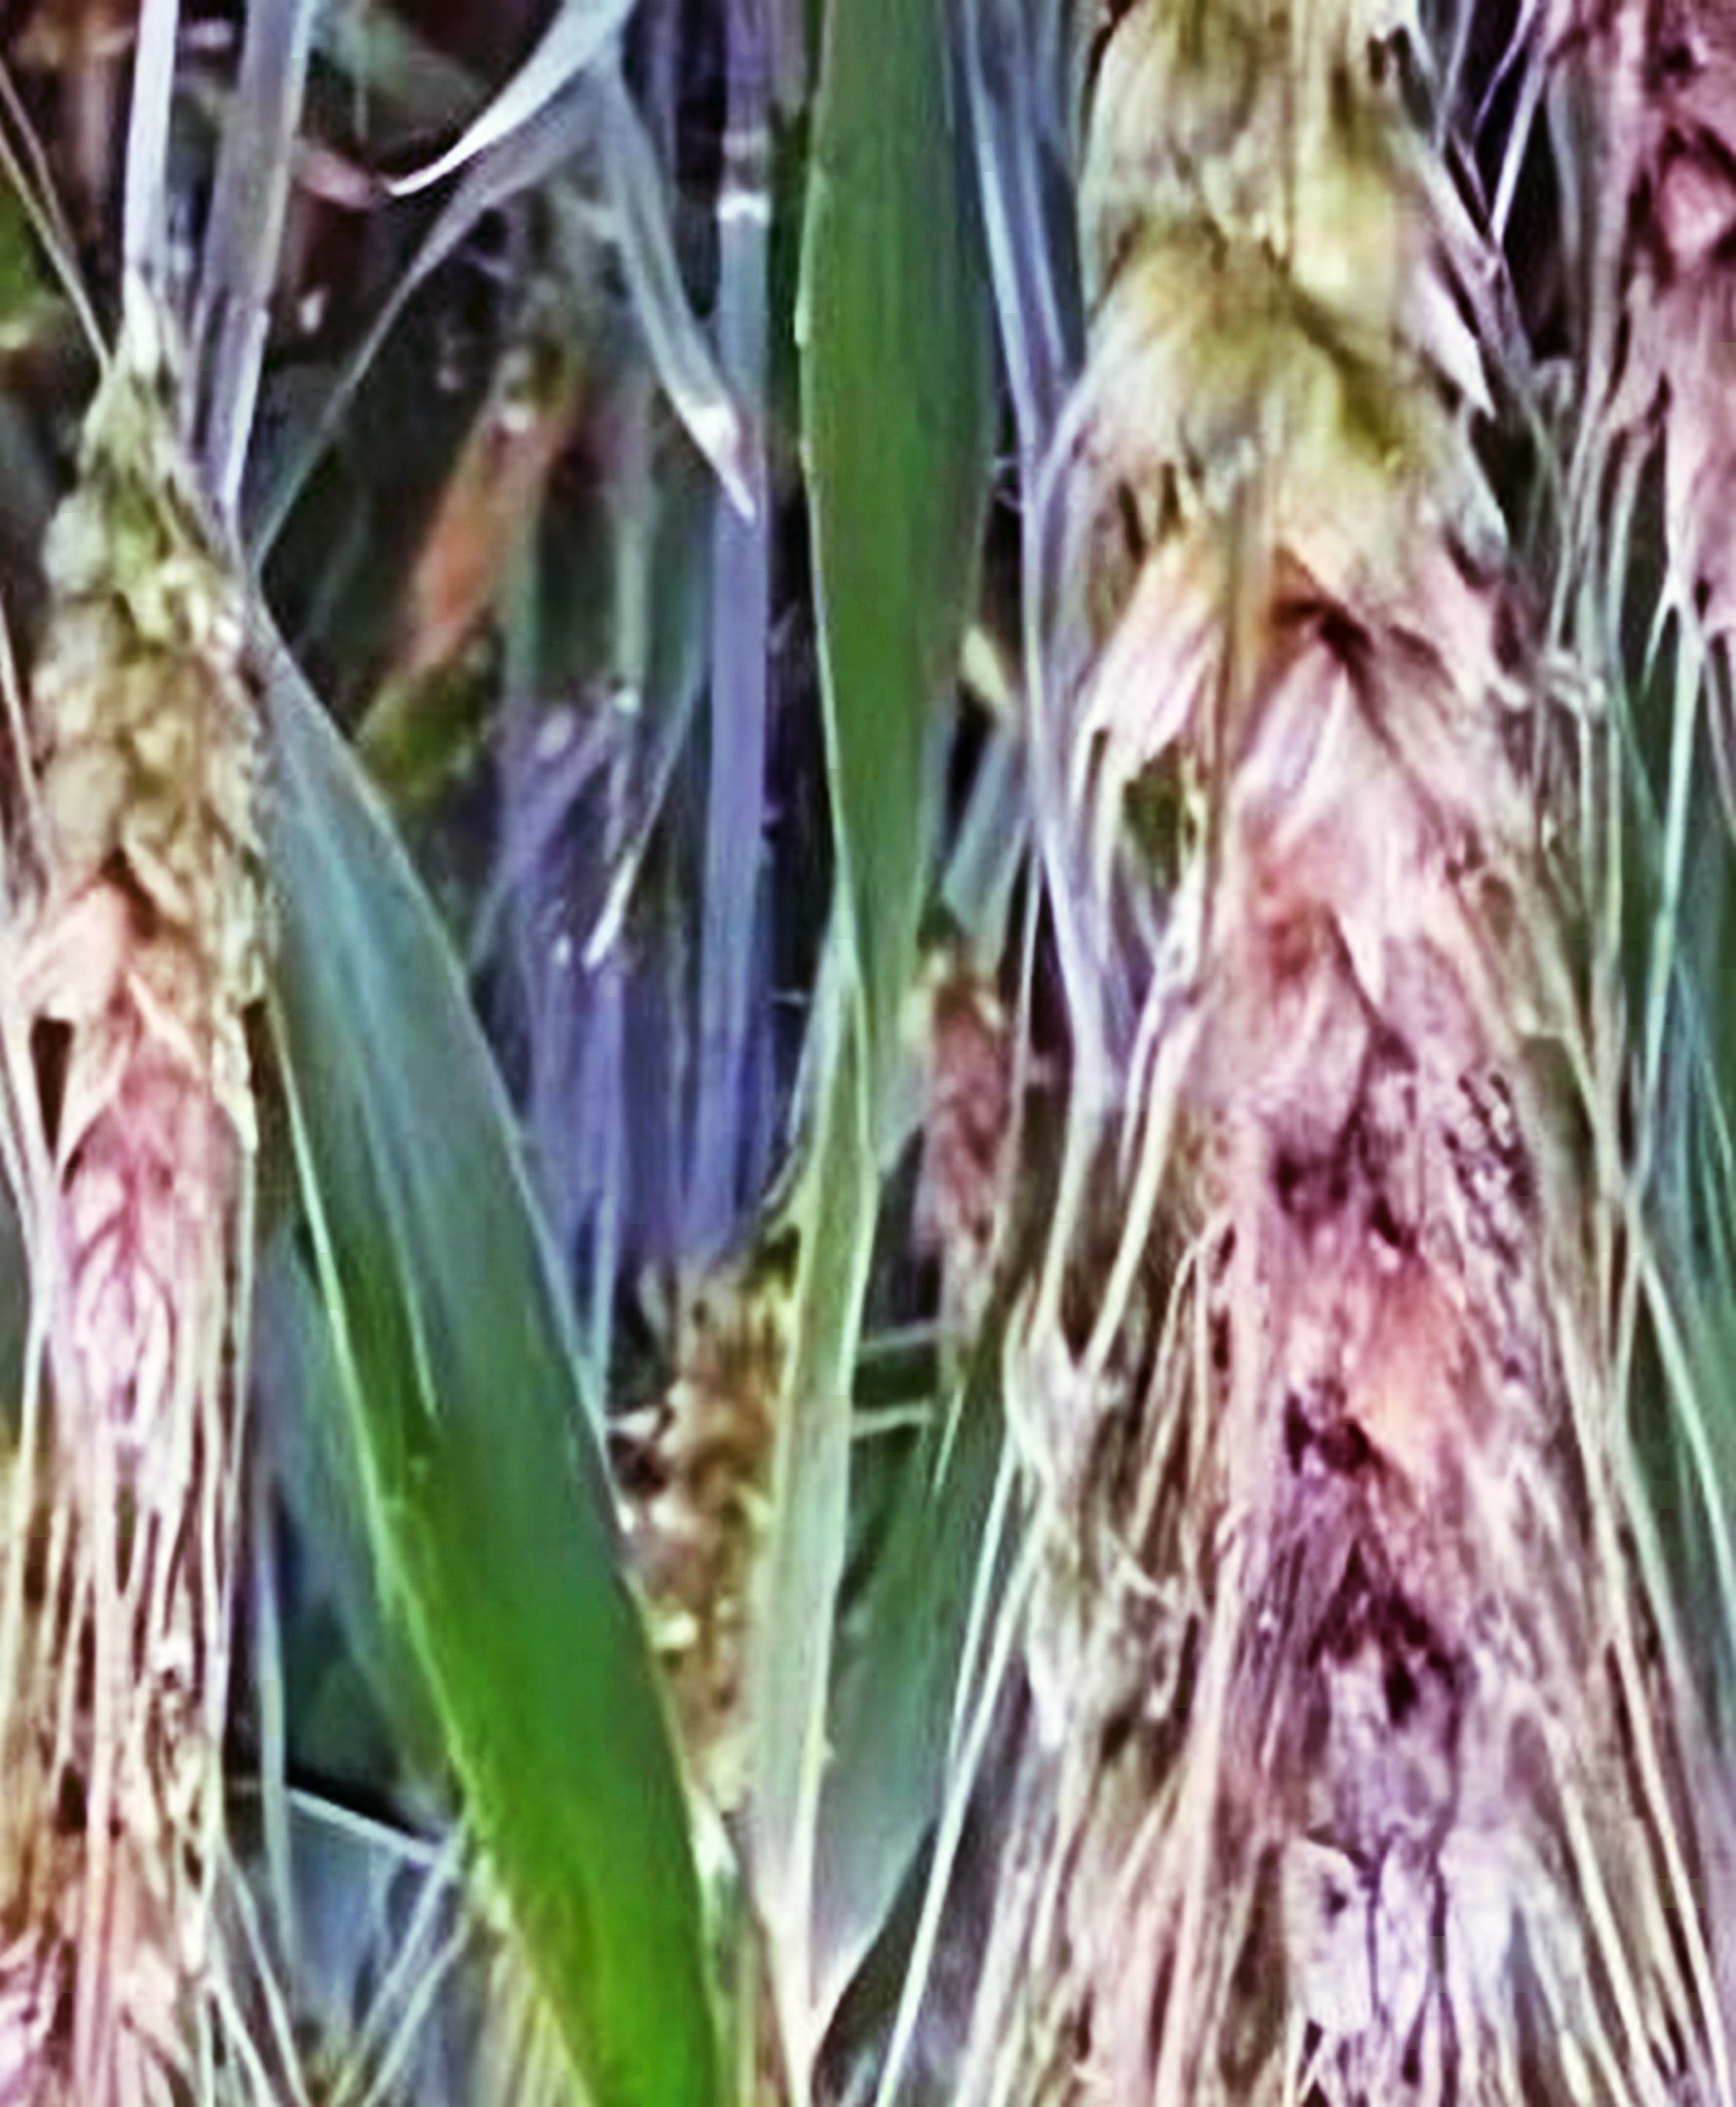Wheat scab: (1024, 96, 1585, 1759), (24, 429, 299, 1545)
